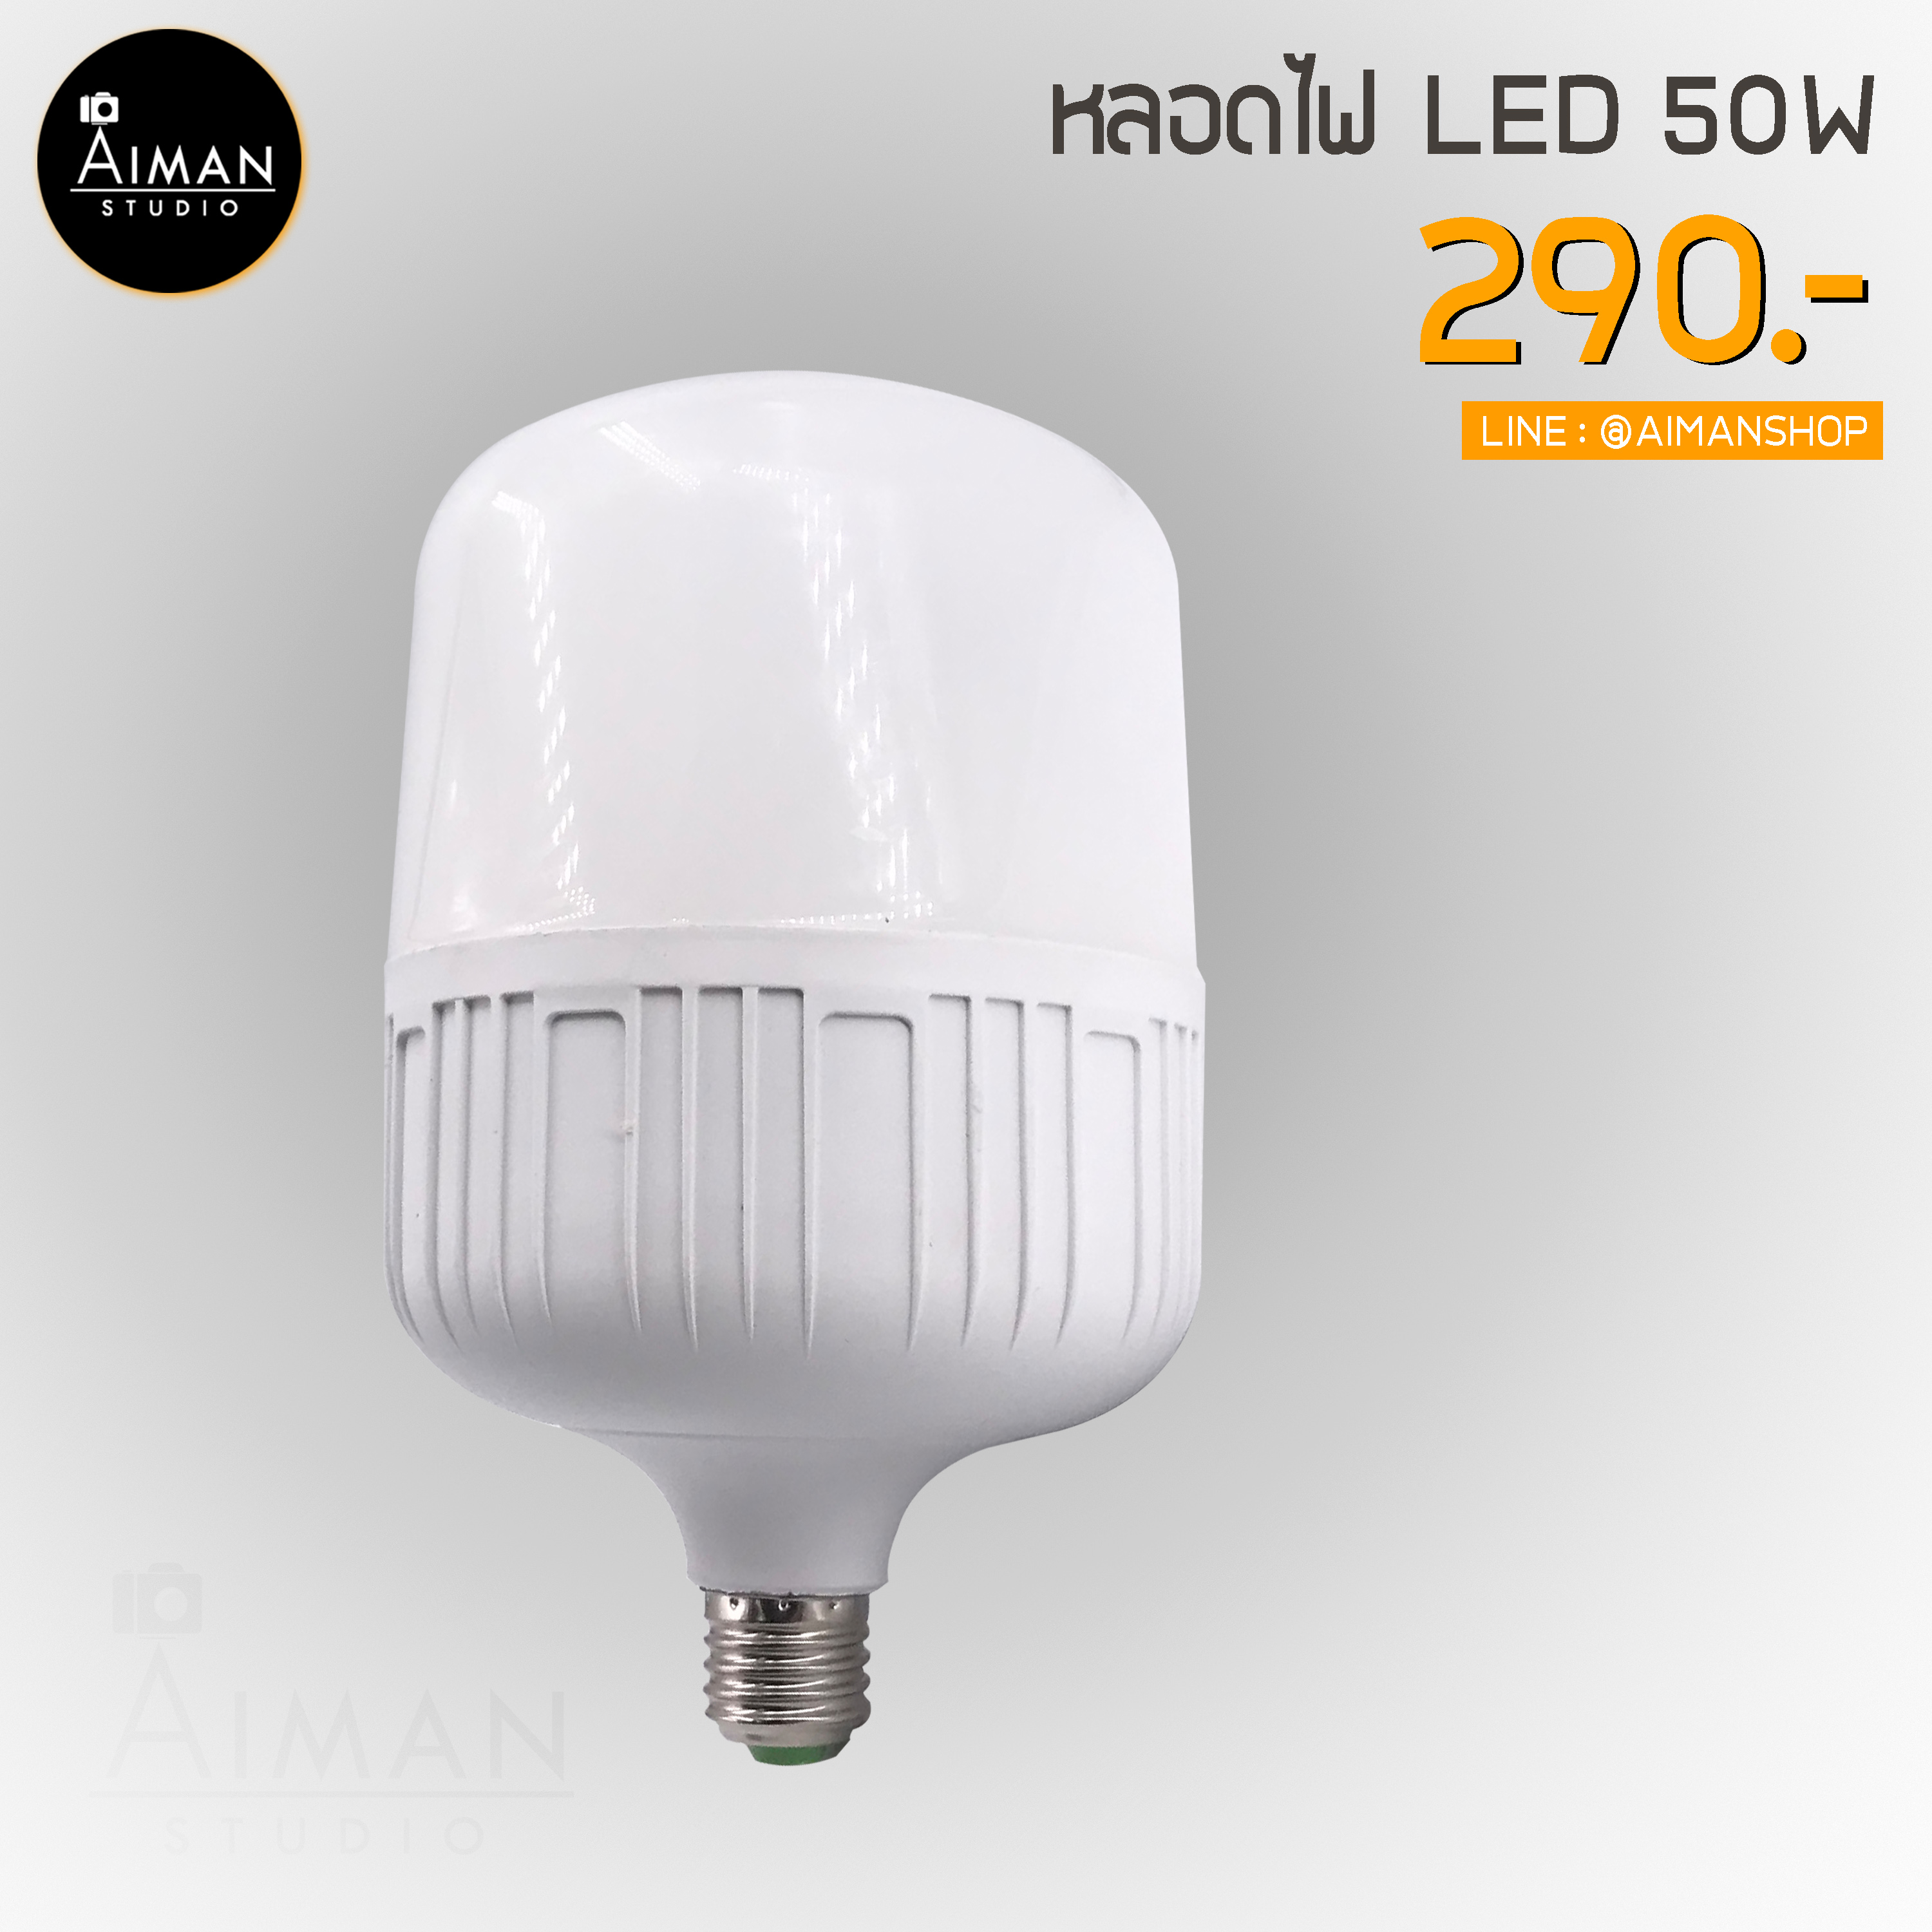Light_bulb: (352, 359, 1224, 1787)
